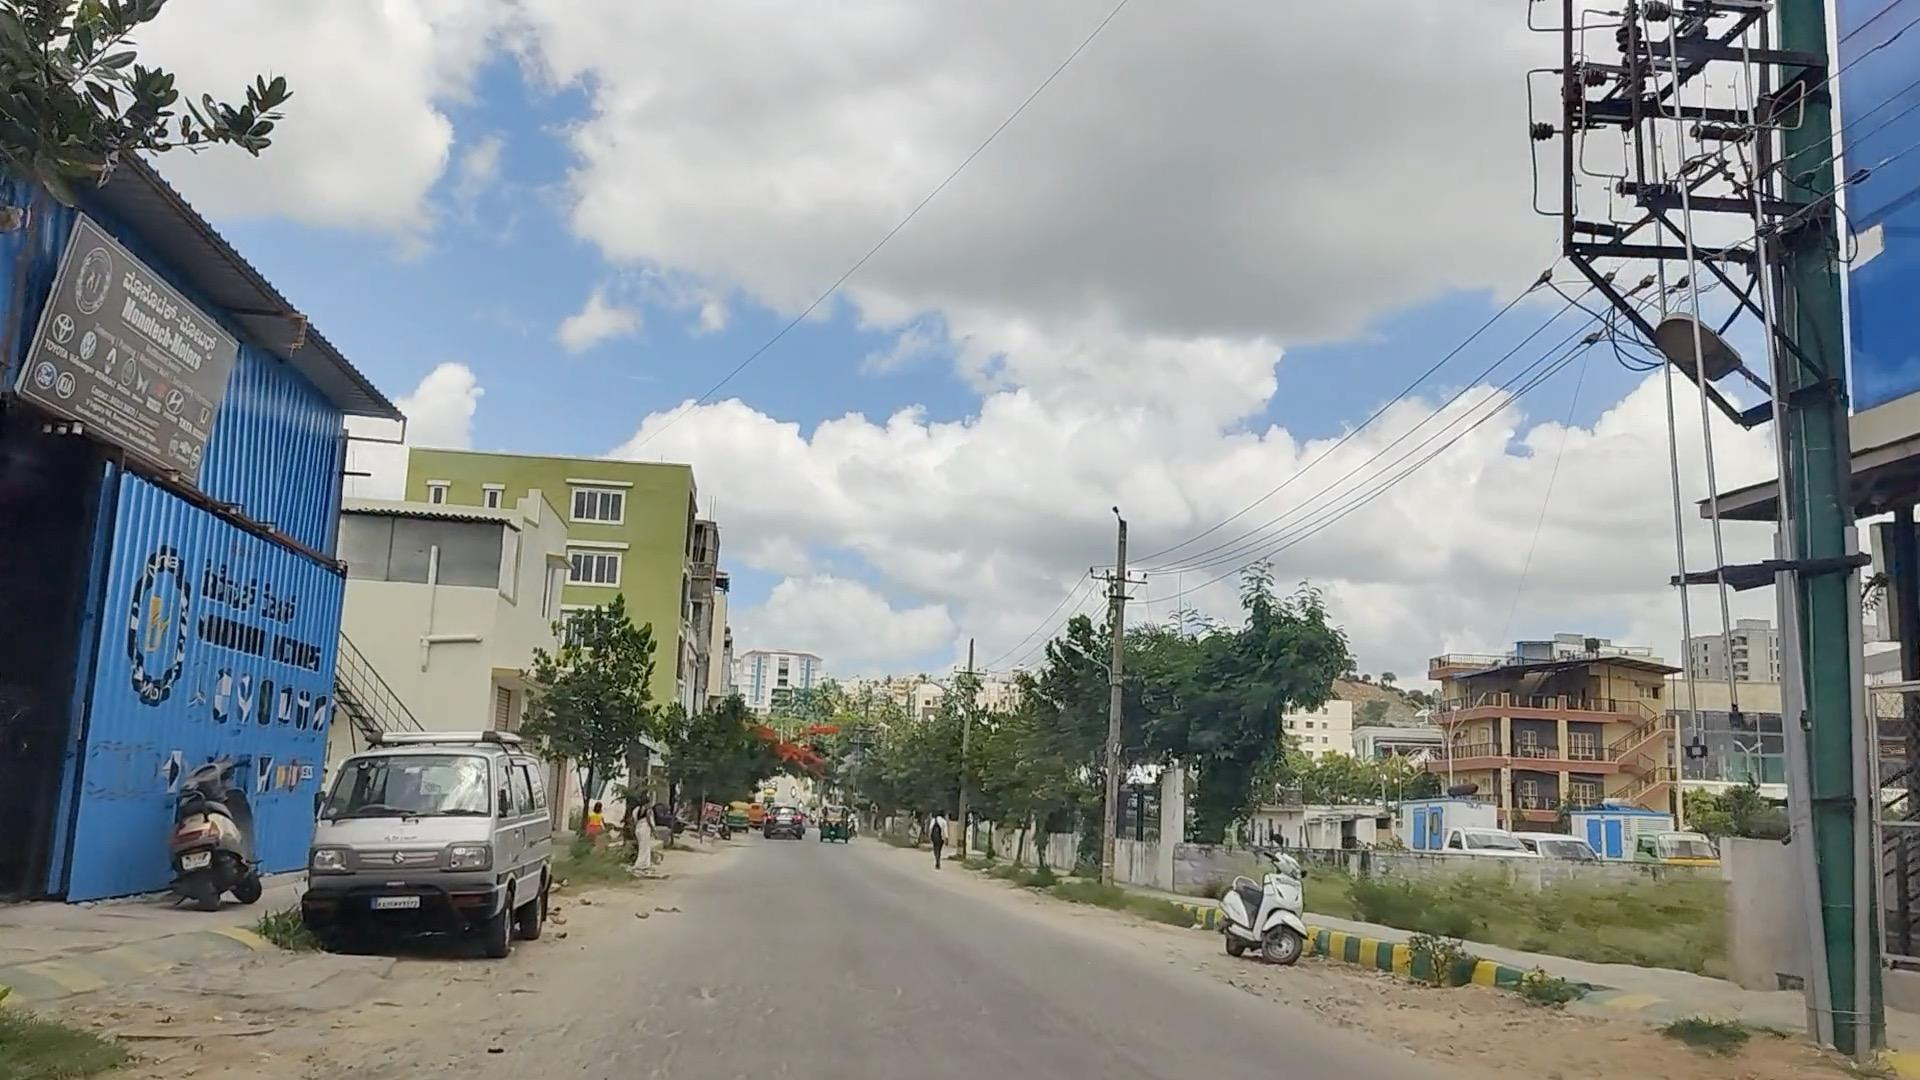LMV: (313, 737, 510, 932), (157, 748, 270, 907), (1220, 828, 1305, 957)
RoadDamages: (583, 975, 732, 1080)
